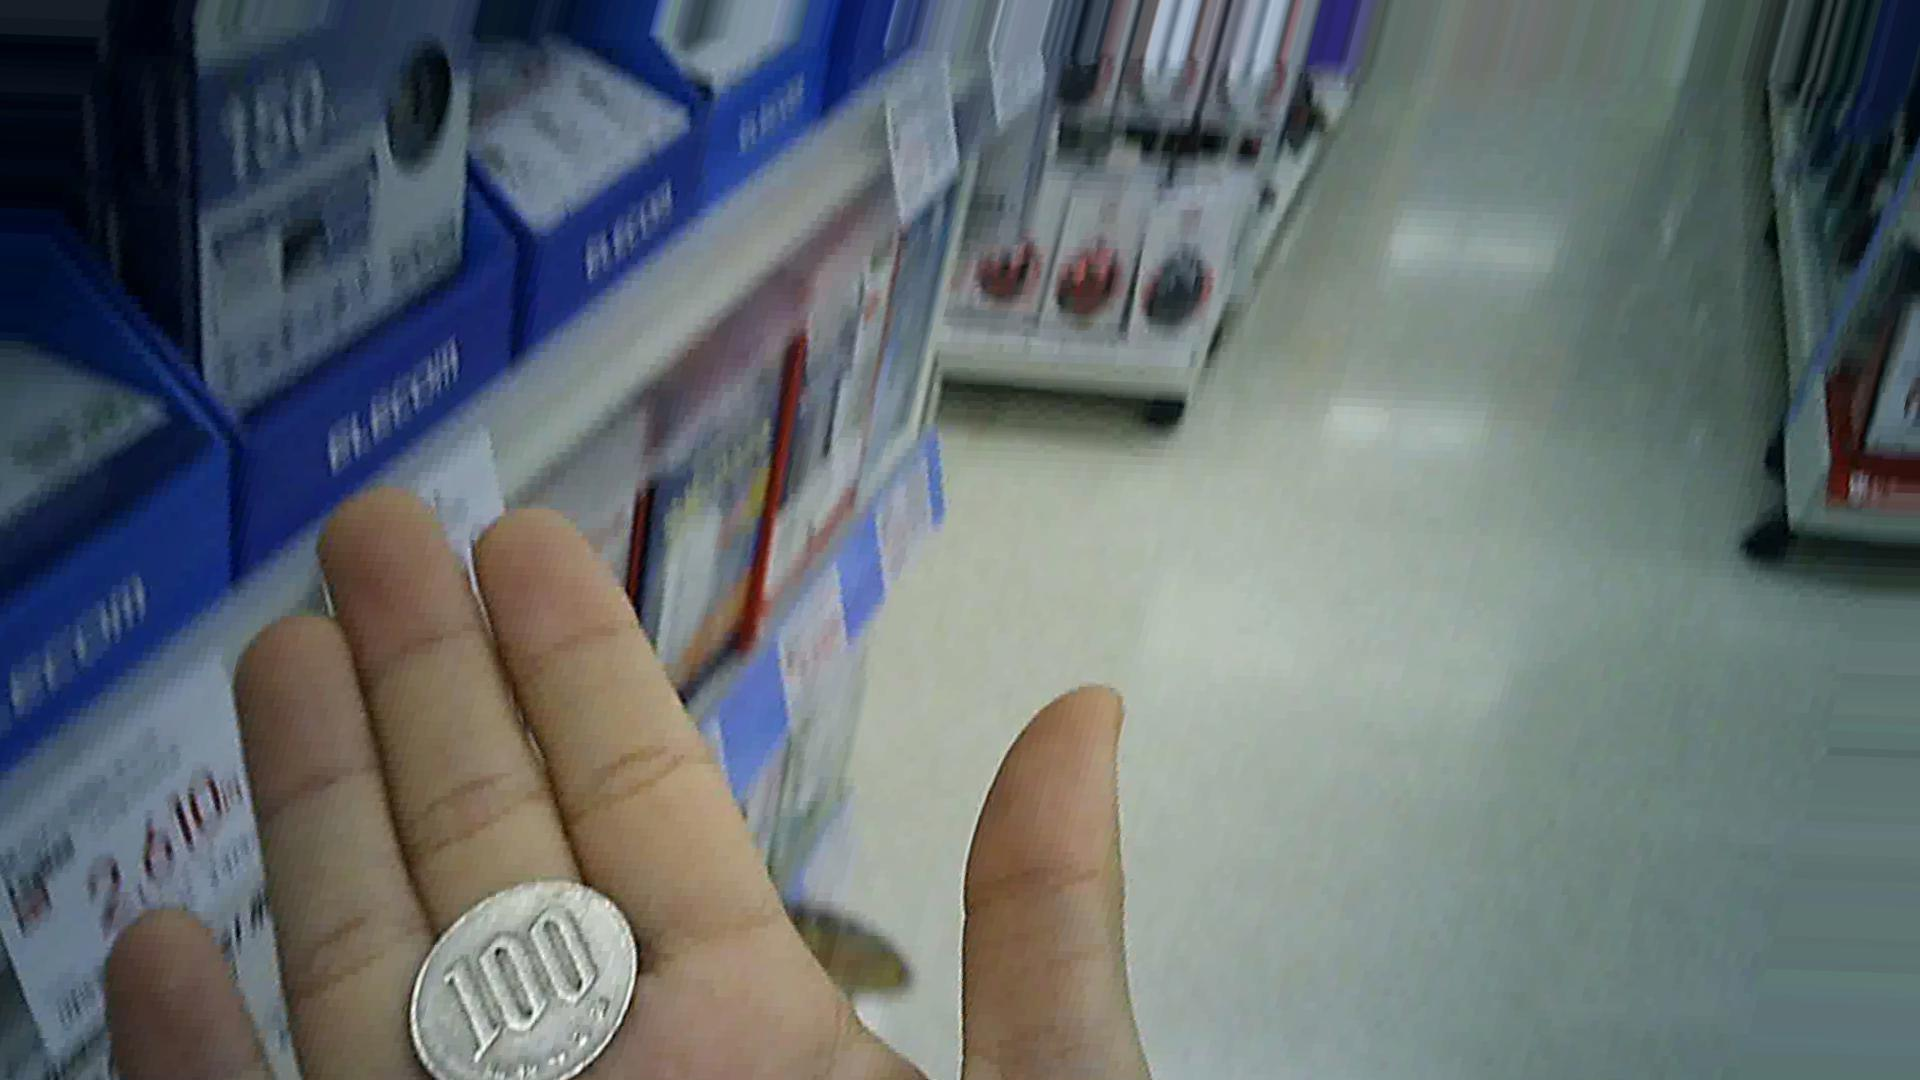100 Yen: (405, 878, 645, 1079)
